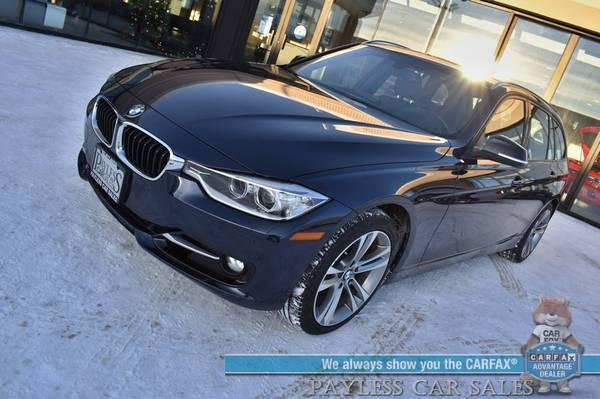Front_Bumper: (74, 109, 353, 305)
Front_Fender: (286, 131, 467, 279)
Front_Left_Door: (413, 163, 527, 272)
Front_Left_Window: (467, 92, 533, 164)
Front_Windshield: (295, 40, 498, 132)
Grille: (92, 94, 187, 178)
Hood: (105, 57, 455, 180)
Left_Headlight: (180, 160, 329, 225)
Rear_Fender: (548, 112, 569, 202)
Rear_Left_Door: (493, 162, 551, 252)
Rear_Left_Window: (528, 102, 556, 162)
Roof: (460, 80, 569, 147)
Wheel: (294, 211, 398, 334), (517, 206, 554, 264)
